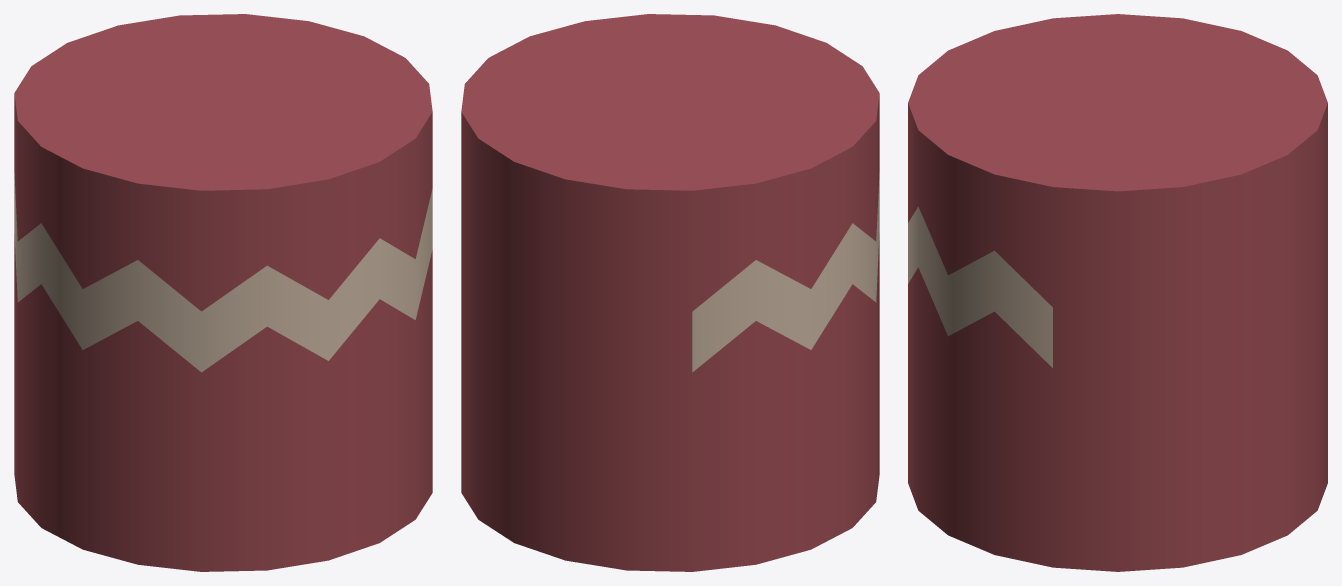
The model's file is russie_tour4.fbx.
The picture shows the model from 3 angles, left to right: view 1: azimuth 30°, elevation 25°; view 2: azimuth 150°, elevation 25°; view 3: azimuth 270°, elevation 25°; orthographic projection.
Parts seen in each view (by area): view 1: pCylinder5; view 2: pCylinder5; view 3: pCylinder5.
Boxes of the visible parts, box(x1,y1,x2,y2) form: pCylinder5: box(14, 14, 432, 571); pCylinder5: box(461, 14, 879, 571); pCylinder5: box(908, 14, 1327, 571).
Bounding box in the file's own units: 2 × 2 × 2.
